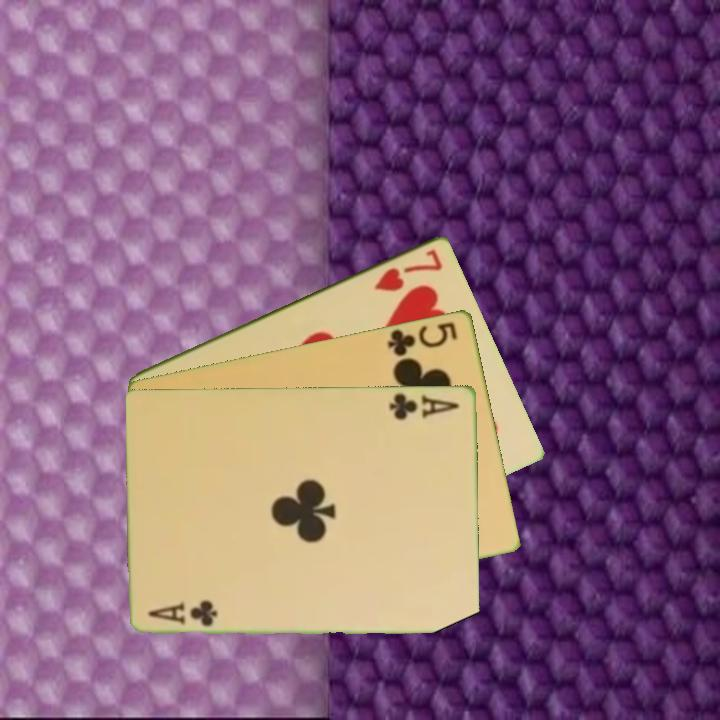5c: (384, 318, 461, 359)
7h: (370, 244, 446, 294)
Ac: (387, 389, 463, 423), (145, 597, 221, 629)
